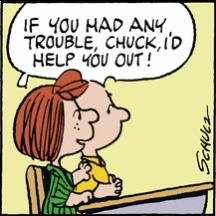charlie: (71, 73, 133, 200)
